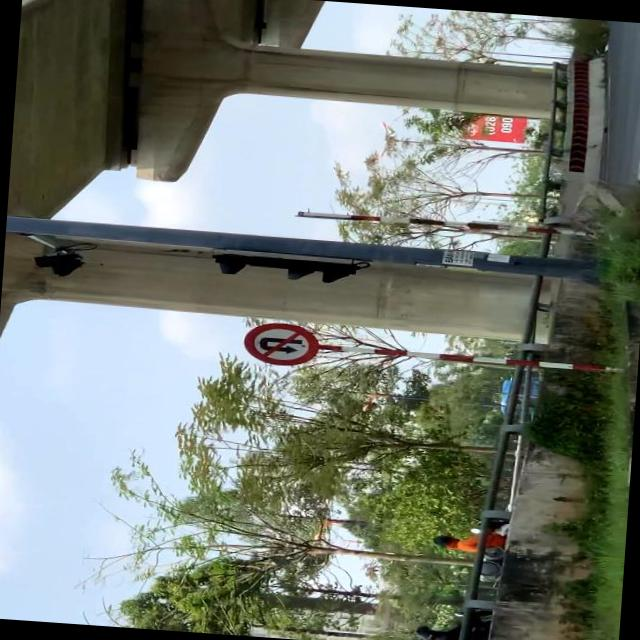P-124a1: (241, 319, 320, 366)
